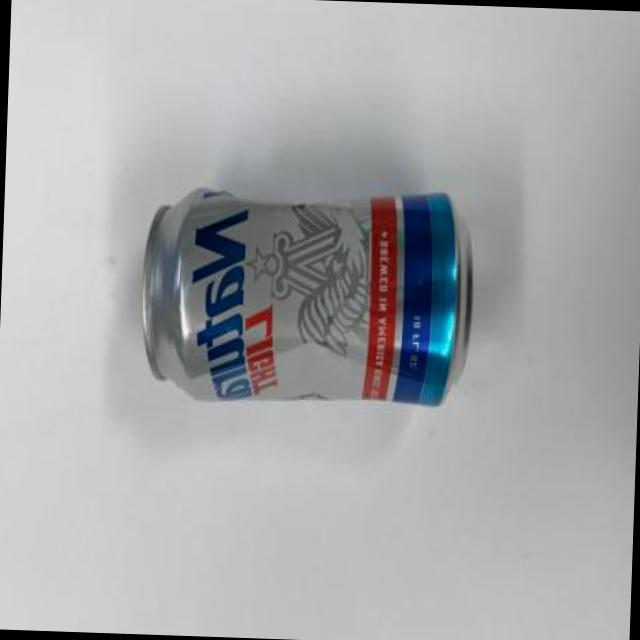kim_loai: (143, 189, 472, 406)
